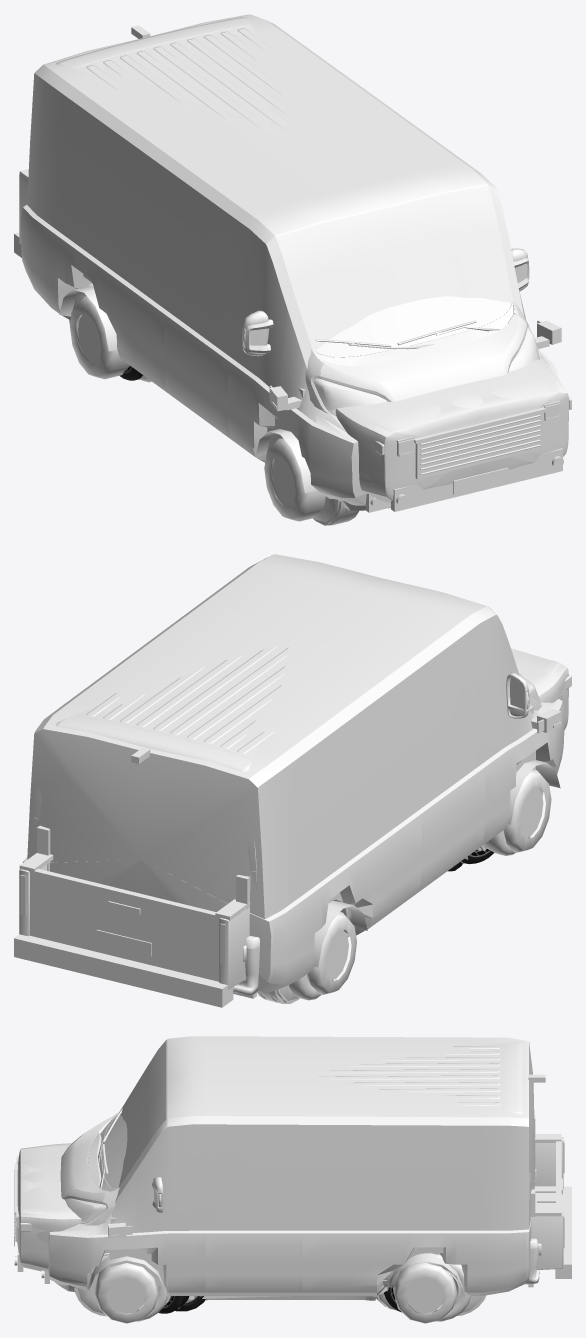
File: cars.glb
3 renders of one model, top to bottom at view 1: azimuth 30°, elevation 25°; view 2: azimuth 150°, elevation 25°; view 3: azimuth 270°, elevation 25°, orthographic. The views are drawn at different scales.
Parts seen in each view (by area): view 1: van_lo_carpaint, van_lo_tint, van_carpaint, pickup_carpaint, van_tint, van_plastic, pickup_lo_carpaint, pickup_lo_gloss, pickup_chrome, pickup_gloss, van_lo_under, pickup_plastic (+9 smaller); view 2: van_lo_carpaint, pickup_carpaint, van_carpaint, pickup_lo_carpaint, van_lo_tint, pickup_lo_chrome, van_lo_under, pickup_chrome, van_lo_wfr_tire, van_lo_wrr_tire, van_plastic, pickup_lo_gloss (+6 smaller); view 3: van_lo_carpaint, van_lo_tint, van_carpaint, pickup_carpaint, pickup_lo_carpaint, van_plastic, van_tint, van_lo_wrl_tire, van_lo_wfl_tire, van_lo_under, van_lo_wfl_rim, van_lo_wrl_rim (+9 smaller).
Part boxes in pixels (box(x1,y1,x2,y2)): van_lo_carpaint: box(21, 14, 561, 497); van_lo_tint: box(234, 186, 525, 408); van_carpaint: box(55, 17, 541, 416); pickup_carpaint: box(19, 174, 568, 496); van_tint: box(242, 266, 540, 415); van_plastic: box(242, 248, 529, 510); pickup_lo_carpaint: box(336, 359, 568, 496); pickup_lo_gloss: box(19, 169, 560, 479); pickup_chrome: box(17, 241, 544, 474); pickup_gloss: box(20, 170, 540, 472); van_lo_under: box(59, 286, 317, 493); pickup_plastic: box(387, 452, 565, 508); van_lo_carpaint: box(22, 554, 564, 984); pickup_carpaint: box(19, 648, 568, 990); van_carpaint: box(34, 645, 541, 931); pickup_lo_carpaint: box(25, 650, 568, 980); van_lo_tint: box(472, 615, 533, 765); pickup_lo_chrome: box(14, 934, 233, 1007); van_lo_under: box(107, 751, 560, 967); pickup_chrome: box(19, 936, 229, 1000); van_lo_wfr_tire: box(503, 769, 551, 852); van_lo_wrr_tire: box(307, 912, 356, 994); van_plastic: box(233, 672, 529, 995); pickup_lo_gloss: box(19, 853, 250, 920); van_lo_carpaint: box(48, 1036, 535, 1295); van_lo_tint: box(112, 1040, 205, 1232); van_carpaint: box(60, 1042, 536, 1287); pickup_carpaint: box(18, 1137, 563, 1269); pickup_lo_carpaint: box(17, 1141, 561, 1267); van_plastic: box(55, 1108, 541, 1291); van_tint: box(65, 1115, 530, 1223); van_lo_wrl_tire: box(394, 1262, 456, 1323); van_lo_wfl_tire: box(95, 1263, 158, 1323); van_lo_under: box(88, 1249, 463, 1291); van_lo_wfl_rim: box(107, 1277, 146, 1313); van_lo_wrl_rim: box(406, 1277, 444, 1313).
Size of the model in its own units: 2.71 by 2.43 by 5.98.
Materials: 266 (12 with a texture image).
